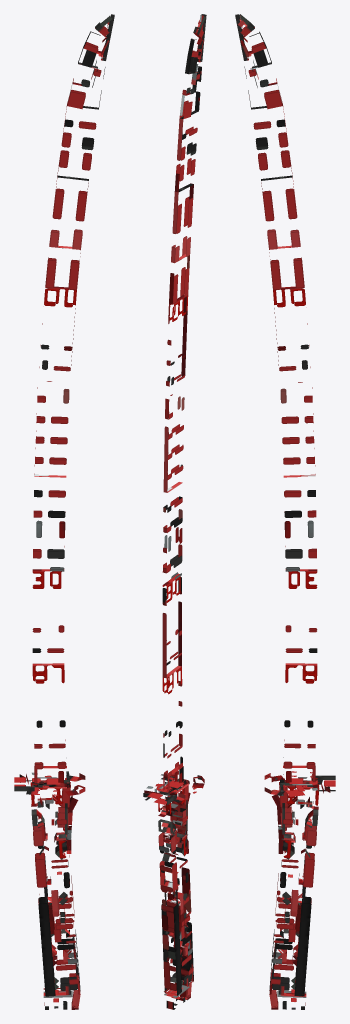
File: hf_murasama.obj
3 renders of one model, left to right at view 1: azimuth 90°, elevation 25°; view 2: azimuth 150°, elevation 25°; view 3: azimuth 270°, elevation 25°, orthographic. The views are drawn at different scales.
Parts seen in each view (by area): view 1: cube; view 2: cube; view 3: cube.
Part boxes in pixels (bbox=[...]): cube: bbox=[14, 14, 114, 1009]; cube: bbox=[143, 14, 206, 1009]; cube: bbox=[235, 14, 335, 1009].
Bounding box in the file's own units: 0.1342 × 3.02 × 0.2764.
